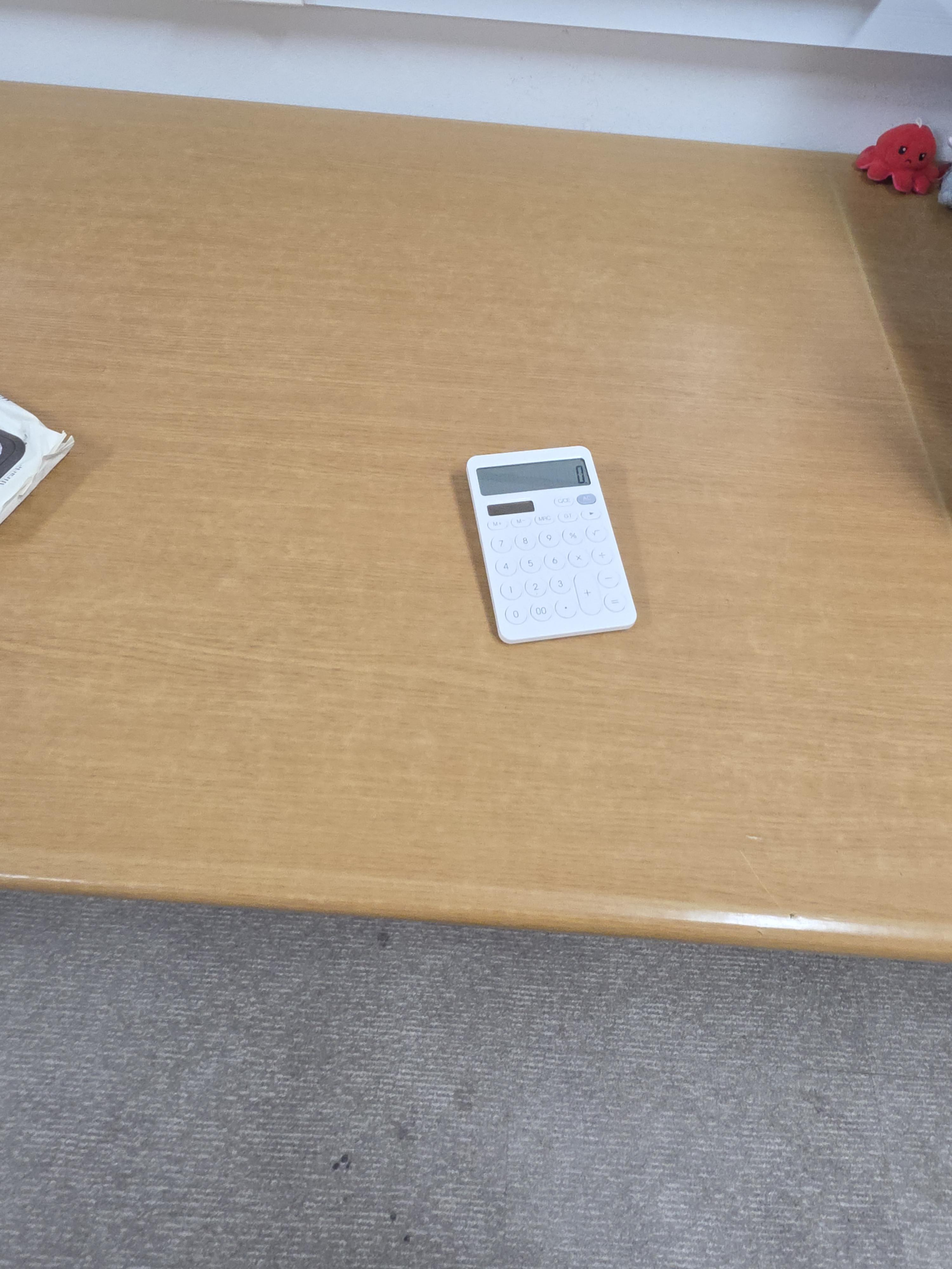calculator: (466, 445, 638, 644)
tissue: (0, 395, 75, 525)
